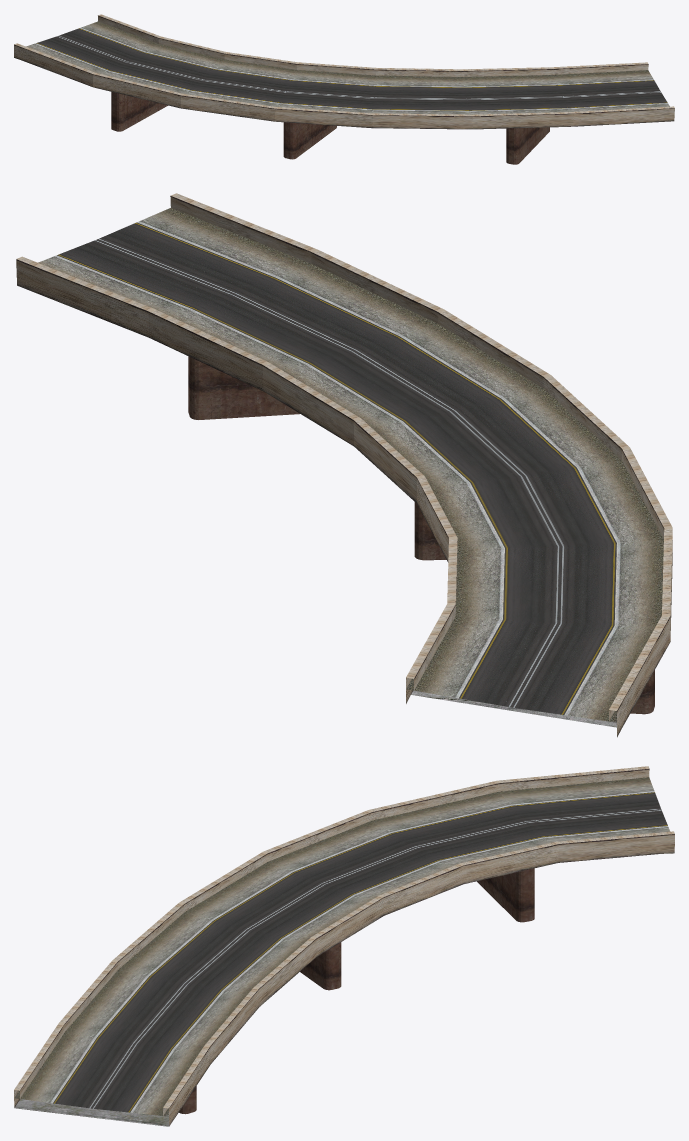
Rendered from vgssspagjun09b.obj.
The picture shows the model from 3 angles, top to bottom: view 1: azimuth 30°, elevation 25°; view 2: azimuth 150°, elevation 25°; view 3: azimuth 270°, elevation 25°; orthographic projection. The views are drawn at different scales.
Visible parts, largest first — view 1: vgsSspagjun09b; view 2: vgsSspagjun09b; view 3: vgsSspagjun09b.
Part boxes in pixels (left/top/right/bottom): vgsSspagjun09b: left=14, top=14, right=674, bottom=164; vgsSspagjun09b: left=16, top=193, right=672, bottom=737; vgsSspagjun09b: left=14, top=766, right=674, bottom=1126.
Size of the model in its own units: 96.46 by 12.31 by 82.14.
6 materials, 6 textured.
